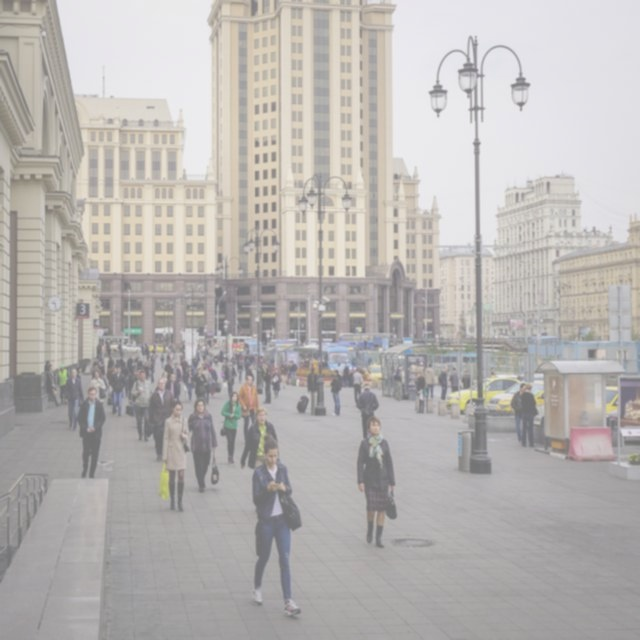pessoa: (248, 432, 306, 616), (357, 414, 398, 550), (178, 340, 276, 382), (158, 396, 193, 511), (187, 396, 219, 494), (94, 339, 180, 373), (76, 384, 106, 480), (147, 377, 176, 462), (240, 406, 278, 470), (219, 388, 244, 464), (237, 372, 261, 444), (130, 370, 154, 442), (63, 366, 86, 432), (356, 382, 380, 439), (520, 382, 539, 448), (510, 382, 527, 444), (128, 367, 144, 430), (108, 364, 126, 416), (329, 368, 344, 416), (89, 368, 107, 406), (46, 363, 61, 408), (55, 362, 70, 407), (108, 366, 122, 412), (306, 366, 319, 409), (414, 370, 426, 416), (164, 372, 182, 401), (393, 363, 406, 403), (423, 362, 436, 402), (127, 366, 138, 412), (436, 364, 449, 402), (193, 366, 208, 398), (352, 367, 364, 407), (184, 364, 196, 402), (206, 364, 219, 399), (224, 364, 237, 399), (262, 360, 272, 404), (202, 364, 212, 404), (271, 366, 282, 399), (170, 361, 182, 387), (280, 358, 290, 389), (342, 362, 352, 390), (448, 367, 459, 392), (90, 360, 103, 380), (289, 360, 299, 386), (244, 362, 254, 386), (163, 358, 173, 381), (461, 368, 471, 390), (310, 356, 320, 376), (286, 361, 293, 386), (96, 360, 105, 376), (176, 360, 184, 377), (366, 361, 374, 378), (336, 362, 344, 378), (43, 359, 51, 373), (162, 370, 170, 383), (490, 366, 496, 376), (76, 366, 82, 374)
